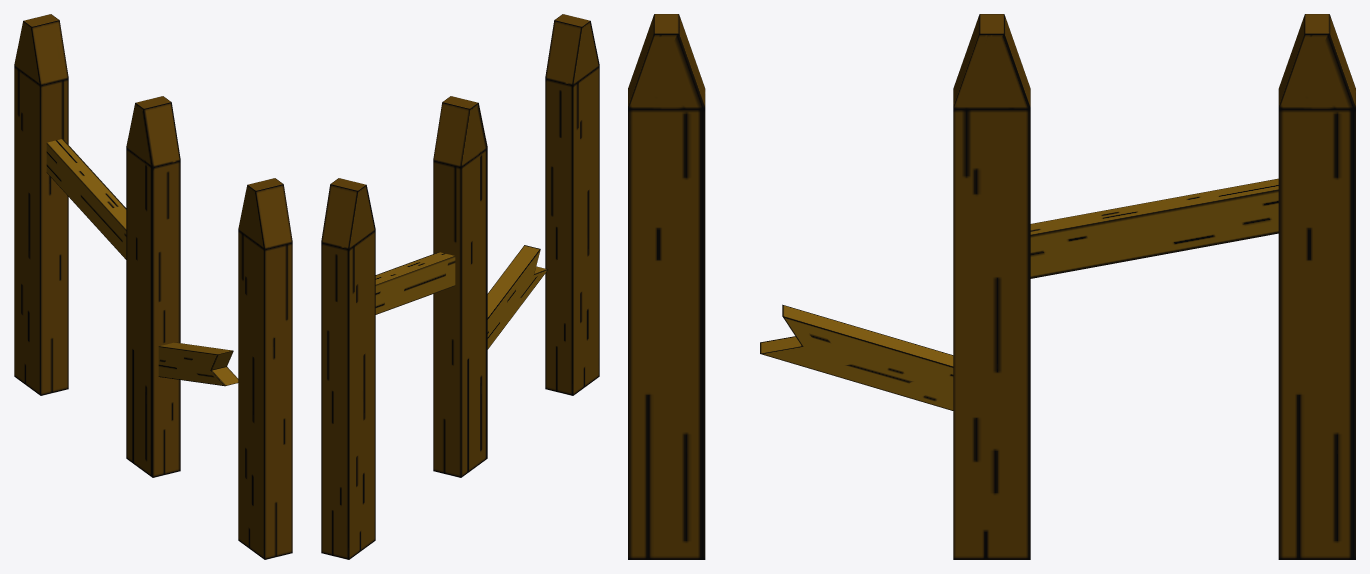
The model's file is Fence2_3.glb.
3 renders of one model, left to right at view 1: azimuth 30°, elevation 25°; view 2: azimuth 150°, elevation 25°; view 3: azimuth 270°, elevation 25°, orthographic. The views are drawn at different scales.
Visible parts, largest first — view 1: Fence2_3; view 2: Fence2_3; view 3: Fence2_3.
Part boxes in pixels (x1=…): Fence2_3: x1=14, y1=14, x2=292, y2=559; Fence2_3: x1=321, y1=14, x2=599, y2=559; Fence2_3: x1=628, y1=14, x2=1355, y2=559.
Bounding box in the file's own units: 0.1443 × 1.78 × 2.24.
1 material, 1 textured.
